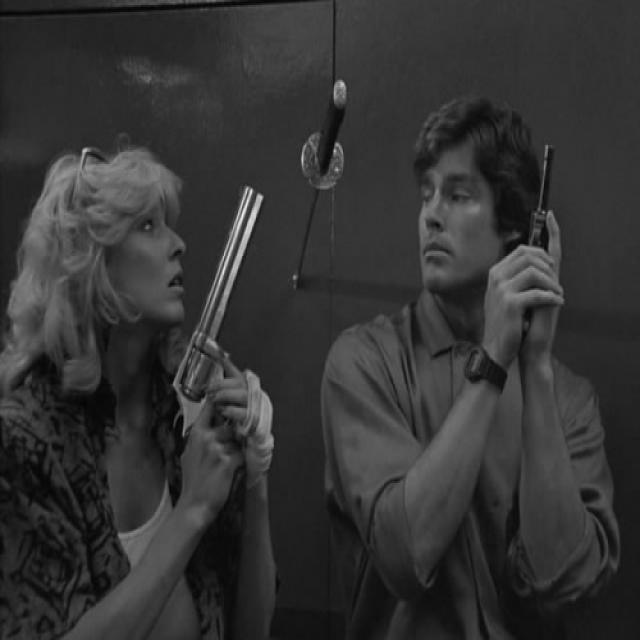weapons: (169, 164, 274, 454), (519, 131, 565, 363)
